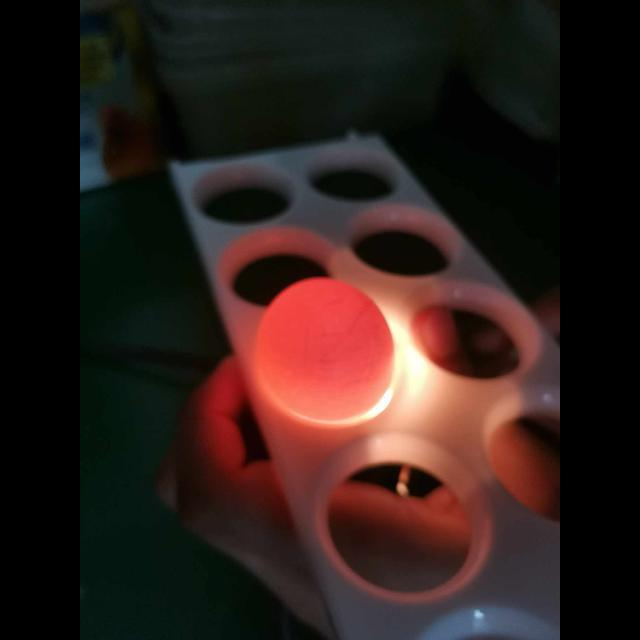Infertile: (259, 278, 385, 412)
